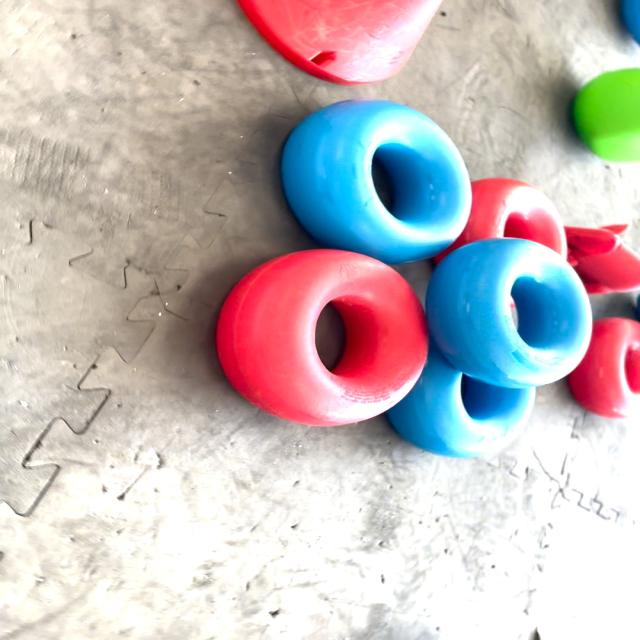Blue-Ring: (282, 99, 471, 264), (427, 239, 591, 389), (387, 341, 536, 458)
Red-Ring: (216, 249, 429, 426), (433, 178, 567, 263), (569, 313, 640, 423)
